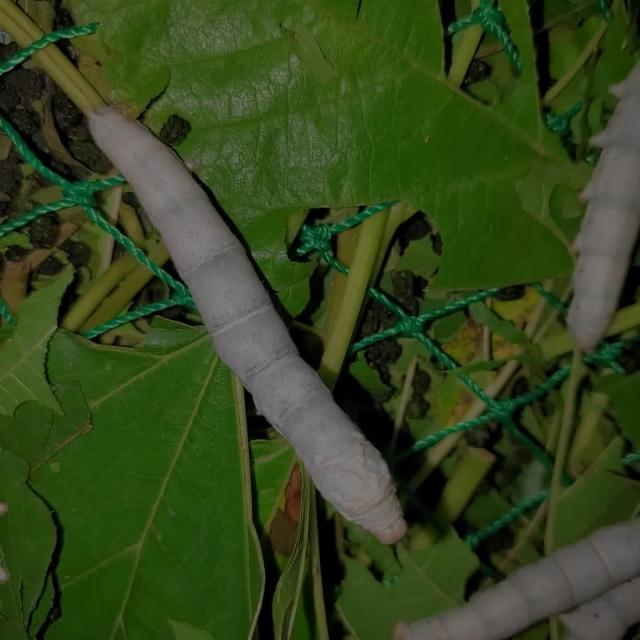Healthy: (51, 70, 484, 565)
